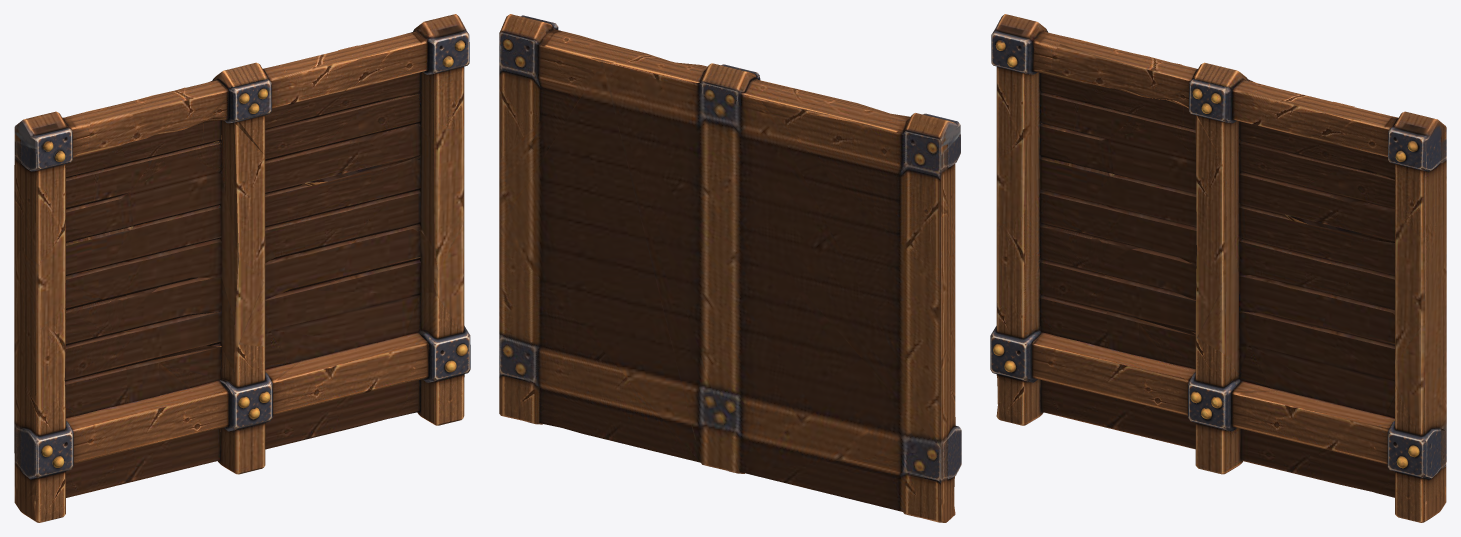
The model's file is ceiling.glb.
3 renders of one model, left to right at view 1: azimuth 30°, elevation 25°; view 2: azimuth 150°, elevation 25°; view 3: azimuth 330°, elevation 25°, orthographic.
Visible parts, largest first — view 1: output_unwrapped; view 2: output_unwrapped; view 3: output_unwrapped.
Part boxes in pixels (bbox=[...]): output_unwrapped: bbox=[14, 14, 470, 522]; output_unwrapped: bbox=[499, 14, 961, 522]; output_unwrapped: bbox=[990, 14, 1446, 522].
Bounding box in the file's own units: 1.9 × 1.66 × 0.1905.
1 material, 1 textured.
